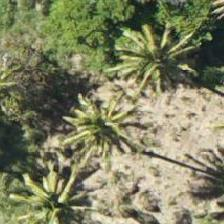coconut_tree: (94, 17, 184, 107), (43, 83, 133, 173), (0, 155, 82, 223)
